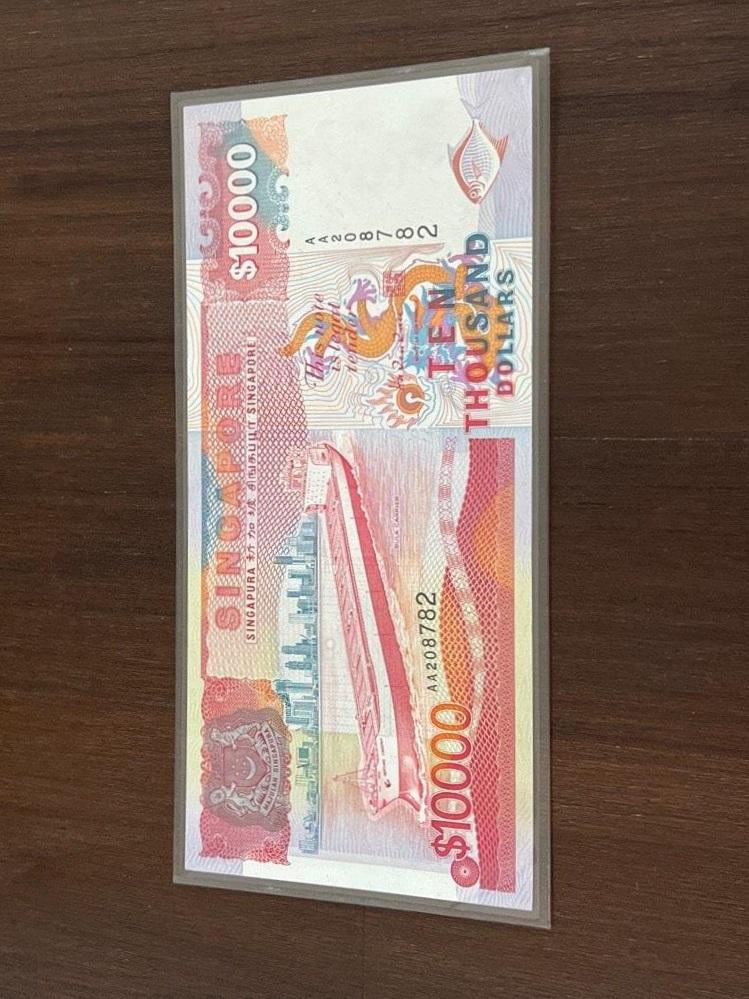10000SingaporeDollar: (198, 108, 528, 882)
